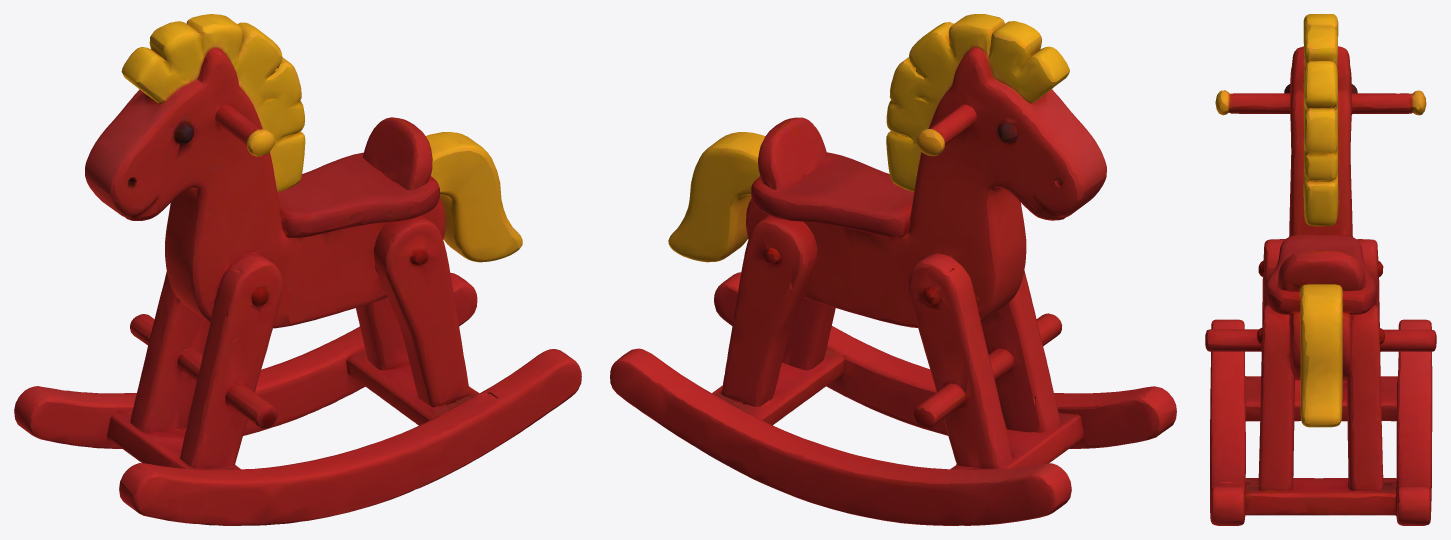
File: x-rockinghorse.glb
3 views of the same model, side by side, from view 1: azimuth 30°, elevation 25°; view 2: azimuth 150°, elevation 25°; view 3: azimuth 270°, elevation 25° (orthographic). The views are drawn at different scales.
Parts seen in each view (by area): view 1: geometry_0; view 2: geometry_0; view 3: geometry_0.
Part boxes in pixels (<box>): geometry_0: <box>14,14,581,525</box>; geometry_0: <box>610,14,1176,525</box>; geometry_0: <box>1205,14,1436,525</box>.
Size of the model in its own units: 0.85 by 0.8498 by 0.4267.
1 material, 1 textured.
